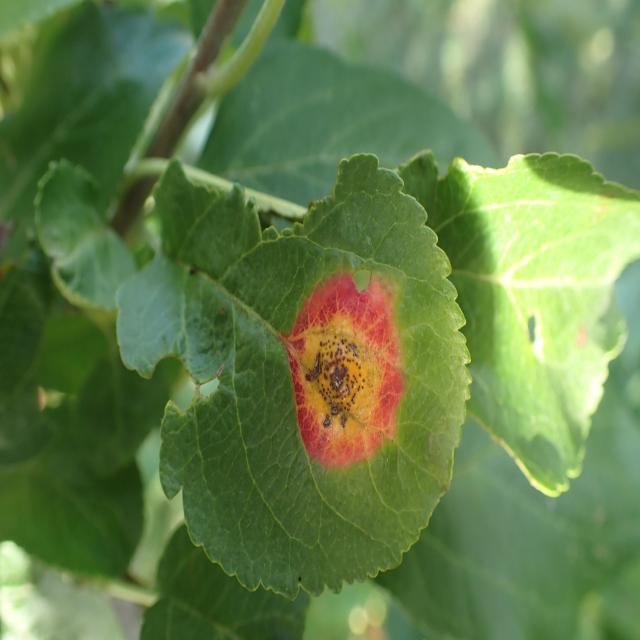Rust: (264, 245, 418, 500)
